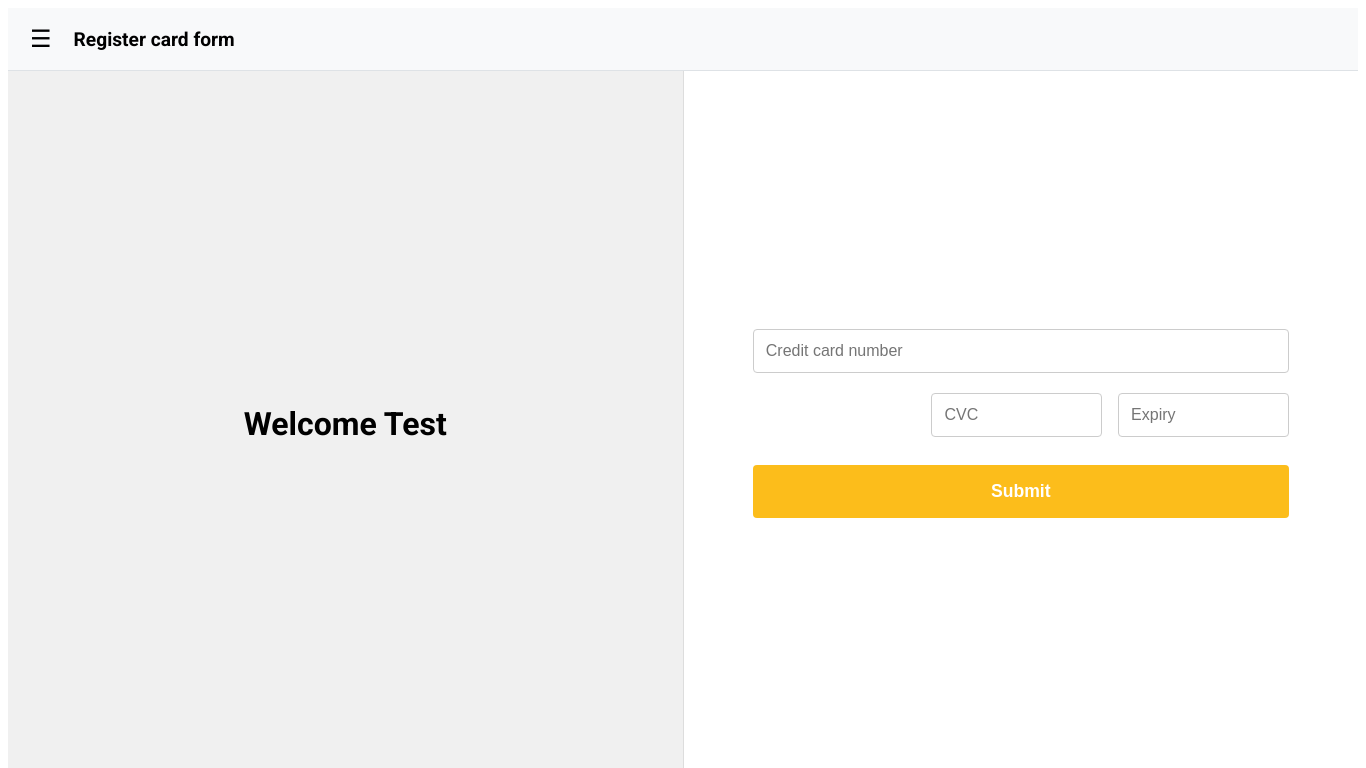
Test: App Navigation › clicking burger opens menu
Click the button named "Open menu" at (41, 39), box [24, 24, 58, 54]
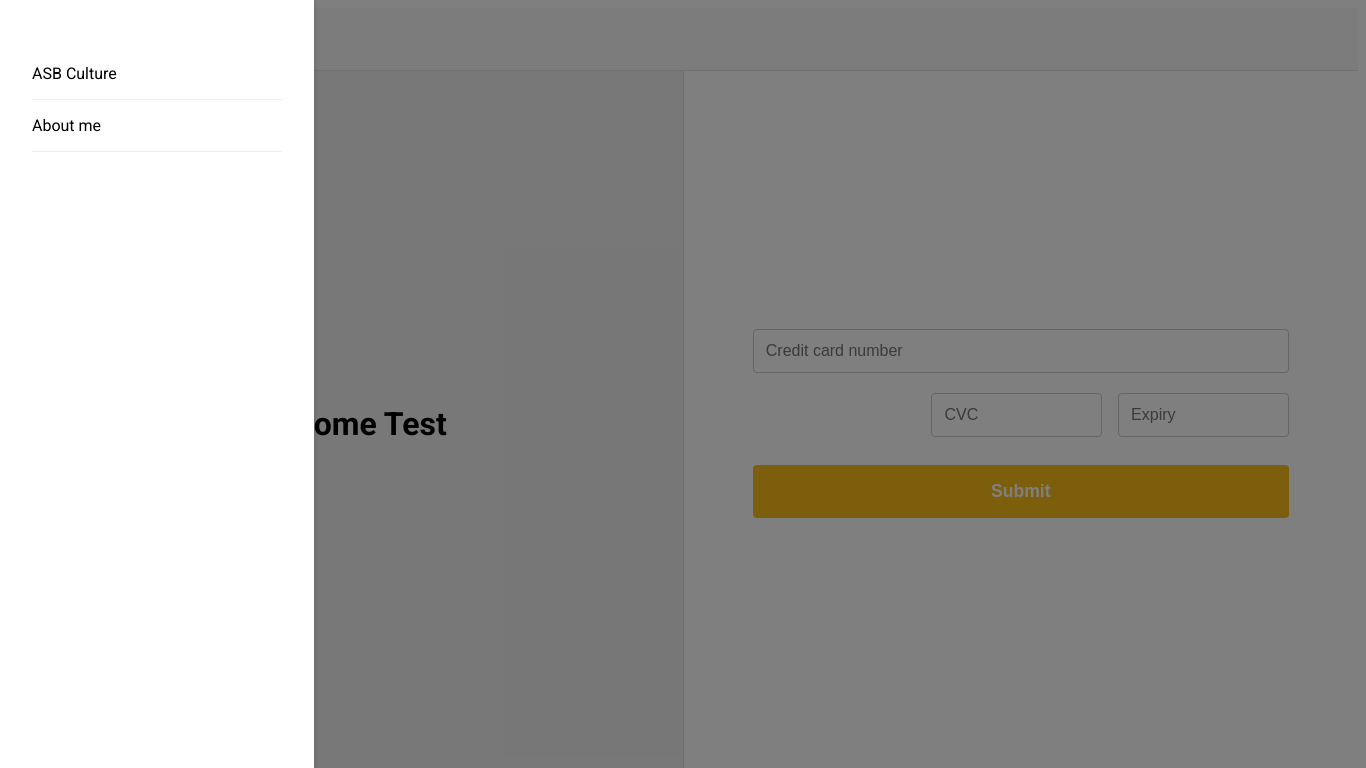
Expected: the list with test id "menu__list" is shown, [32, 48, 282, 152]
Expected: the button "ASB Culture" is shown, [32, 48, 282, 100]
Expected: the button "About me" is shown, [32, 100, 282, 152]
